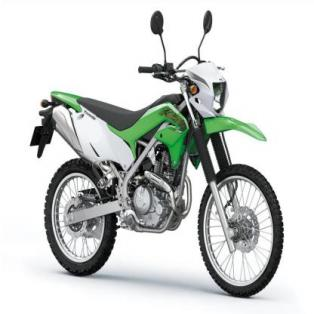Motocicleta: (31, 6, 288, 301)
